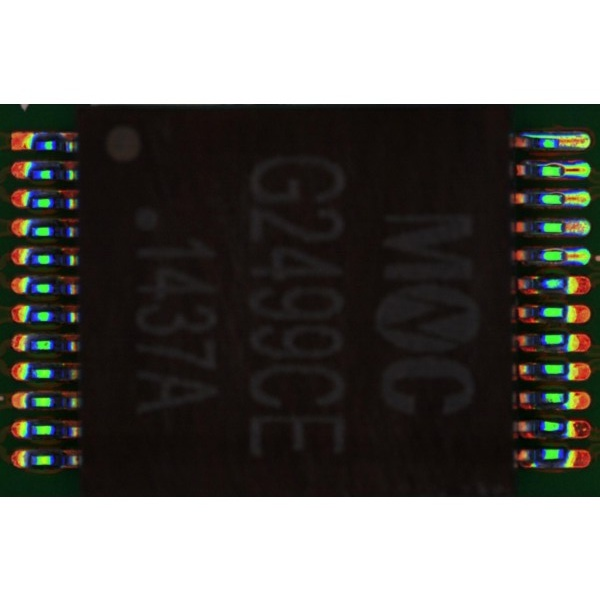Bad_podu: (558, 222, 574, 232), (558, 194, 575, 203), (556, 166, 573, 175), (551, 137, 568, 146), (558, 251, 574, 260)
Bad_qiaojiao: (522, 131, 561, 136), (528, 160, 559, 165)
